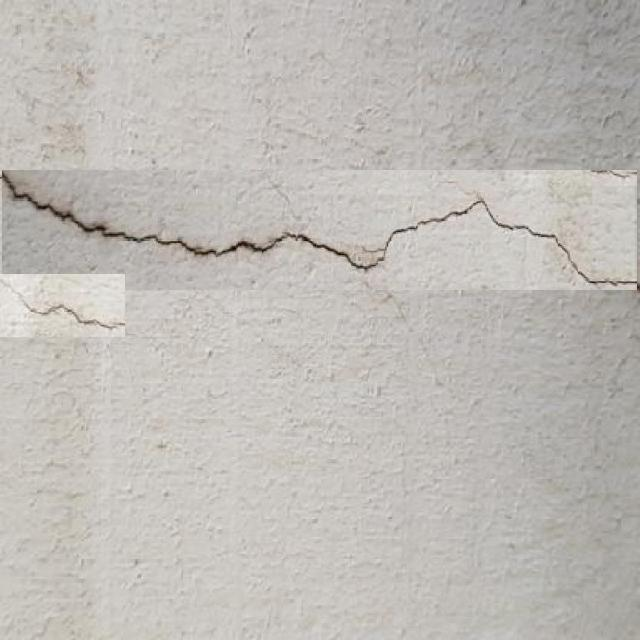Crack: (0, 167, 639, 291)
